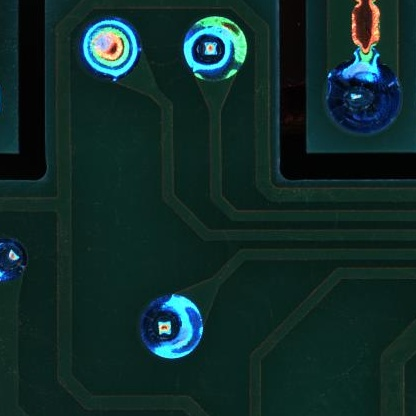spot: (324, 59, 404, 133), (179, 15, 247, 80), (139, 293, 204, 359), (81, 19, 140, 78)
